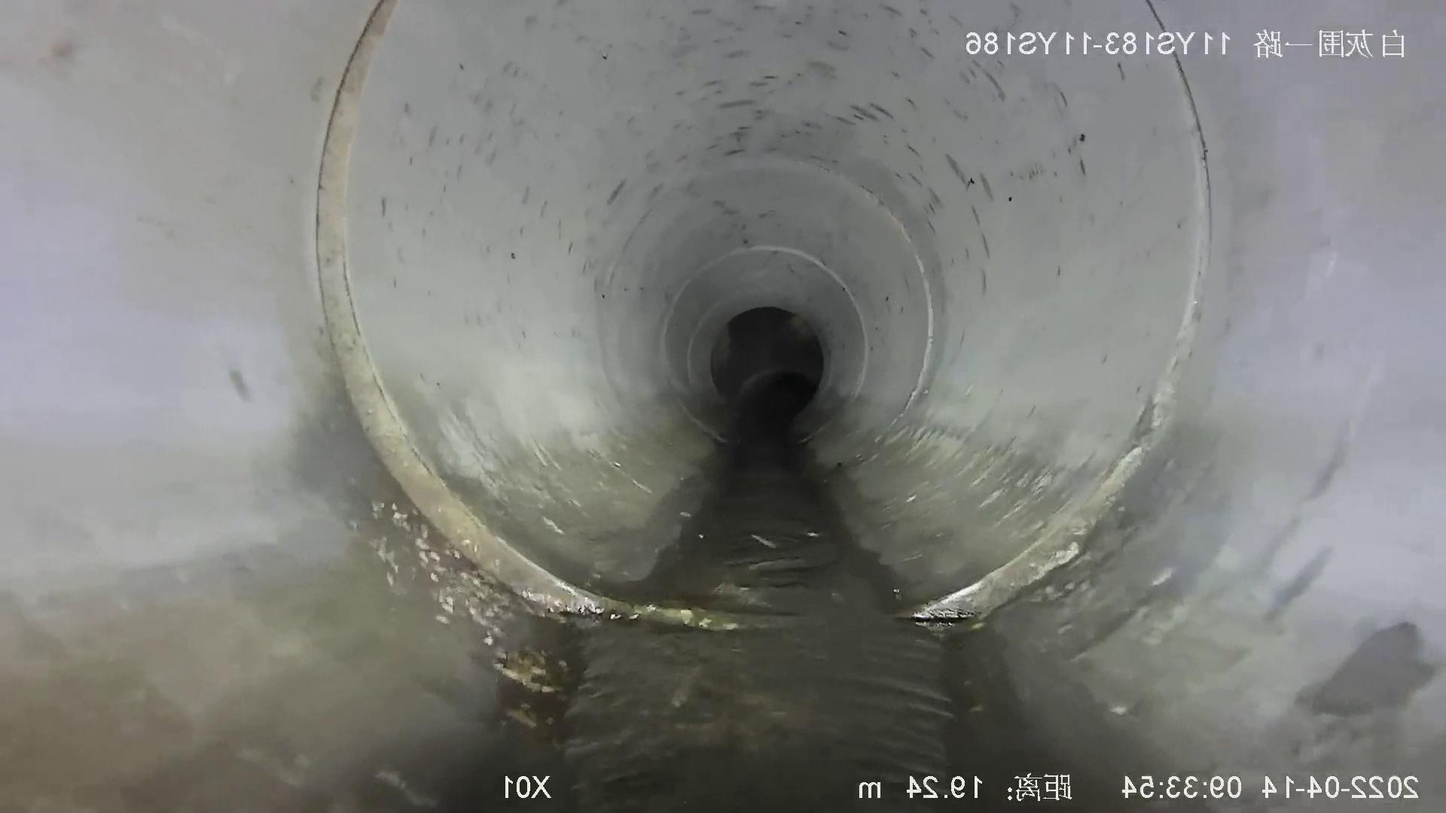CKTJ: (316, 0, 731, 629), (887, 0, 1220, 631)
